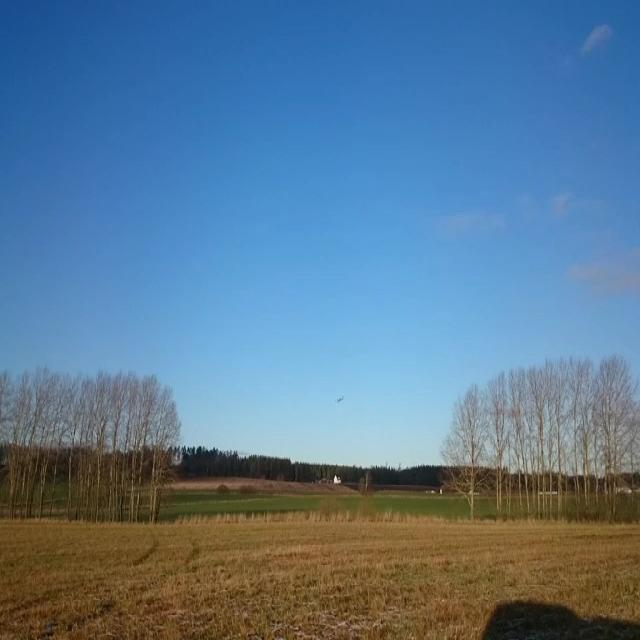drone: (336, 396, 343, 404)
